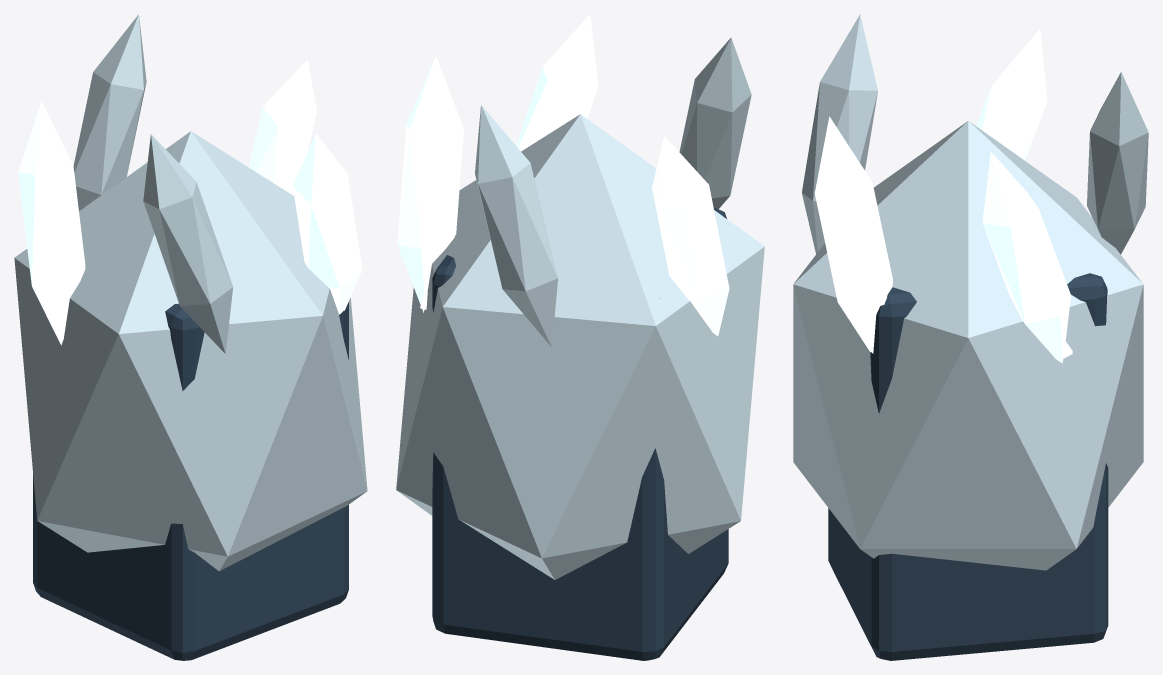
The model's file is Barrier6.fbx.
3 renders of one model, left to right at view 1: azimuth 30°, elevation 25°; view 2: azimuth 150°, elevation 25°; view 3: azimuth 270°, elevation 25°, orthographic. The views are drawn at different scales.
Visible parts, largest first — view 1: Ice_Ice0, Ore_Ore0, Ice_Crystal3, IceGlow_Crystal2, Ice_Crystal1, IceGlow_Crystal4, IceGlow_Crystal0; view 2: Ice_Ice0, Ore_Ore0, Ice_Crystal1, IceGlow_Crystal0, IceGlow_Crystal2, Ice_Crystal3, IceGlow_Crystal4; view 3: Ice_Ice0, Ore_Ore0, IceGlow_Crystal4, IceGlow_Crystal0, Ice_Crystal1, Ice_Crystal3, IceGlow_Crystal2.
Boxes of the visible parts, x1=… form: Ice_Ice0: x1=14, y1=131, x2=367, y2=571; Ore_Ore0: x1=33, y1=301, x2=348, y2=660; Ice_Crystal3: x1=143, y1=134, x2=233, y2=353; IceGlow_Crystal2: x1=18, y1=101, x2=85, y2=345; Ice_Crystal1: x1=73, y1=14, x2=146, y2=210; IceGlow_Crystal4: x1=292, y1=133, x2=362, y2=314; IceGlow_Crystal0: x1=248, y1=59, x2=316, y2=195; Ice_Ice0: x1=396, y1=114, x2=764, y2=579; Ore_Ore0: x1=432, y1=207, x2=728, y2=660; Ice_Crystal1: x1=475, y1=105, x2=557, y2=347; IceGlow_Crystal0: x1=397, y1=56, x2=463, y2=312; IceGlow_Crystal2: x1=652, y1=136, x2=729, y2=336; Ice_Crystal3: x1=679, y1=37, x2=751, y2=208; IceGlow_Crystal4: x1=516, y1=14, x2=598, y2=151; Ice_Ice0: x1=793, y1=121, x2=1143, y2=570; Ore_Ore0: x1=828, y1=273, x2=1108, y2=660; IceGlow_Crystal4: x1=814, y1=116, x2=892, y2=353; IceGlow_Crystal0: x1=982, y1=152, x2=1070, y2=363; Ice_Crystal1: x1=1087, y1=72, x2=1148, y2=254; Ice_Crystal3: x1=802, y1=14, x2=877, y2=254; IceGlow_Crystal2: x1=976, y1=29, x2=1047, y2=160.
Size of the model in its own units: 0.6386 by 0.6164 by 1.08.
